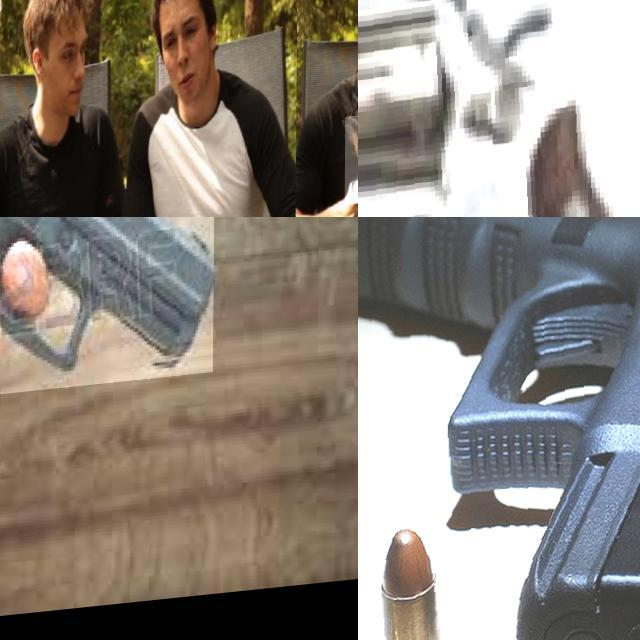-: (24, 0, 56, 48), (345, 121, 358, 212)
gun-knife-thesis - v11 Yolov5 augmented: (358, 217, 640, 640), (358, 0, 640, 217), (0, 217, 218, 418)
